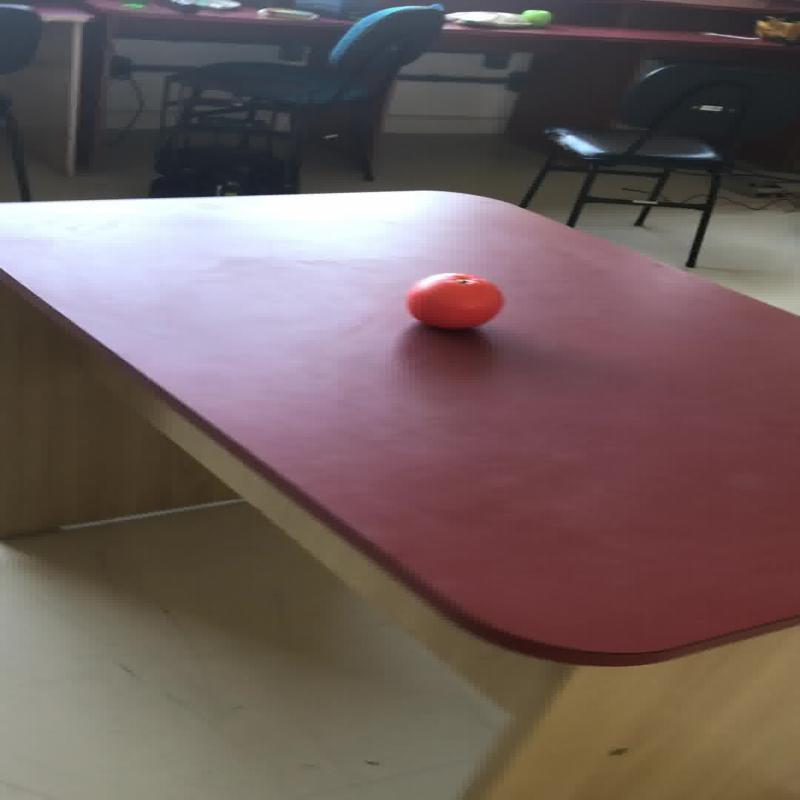orange: (405, 272, 502, 330), (519, 8, 550, 27)
